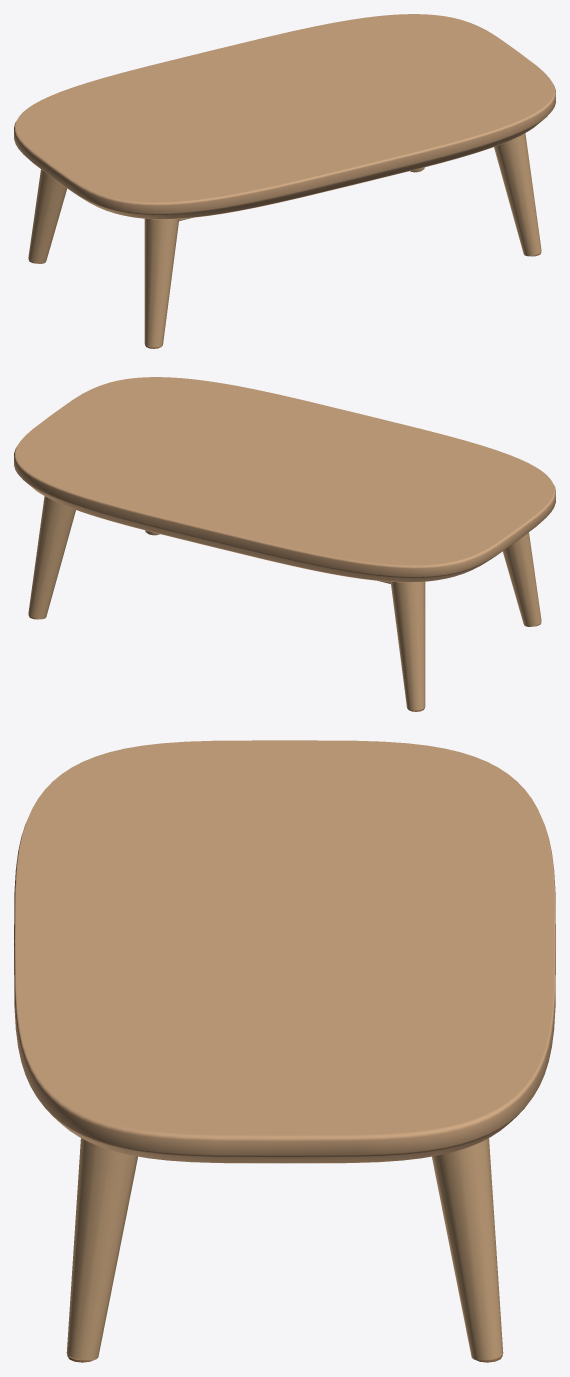
Rendered from family-low-table-v1.glb.
3 renders of one model, top to bottom at view 1: azimuth 30°, elevation 25°; view 2: azimuth 150°, elevation 25°; view 3: azimuth 270°, elevation 25°, orthographic. The views are drawn at different scales.
Parts seen in each view (by area): view 1: Maple-slab, Tapered oak foot (×3); view 2: Maple-slab, Tapered oak foot (×3); view 3: Maple-slab, Tapered oak foot (×2).
Part boxes in pixels (x1,y1,x2,y2): Maple-slab: [14, 14, 555, 219]; Tapered oak foot (×3): [28, 133, 541, 347]; Maple-slab: [14, 377, 555, 582]; Tapered oak foot (×3): [28, 496, 541, 710]; Maple-slab: [14, 740, 555, 1163]; Tapered oak foot (×2): [66, 1138, 503, 1360].
Size of the model in its own units: 1.18 by 0.3597 by 0.68.
